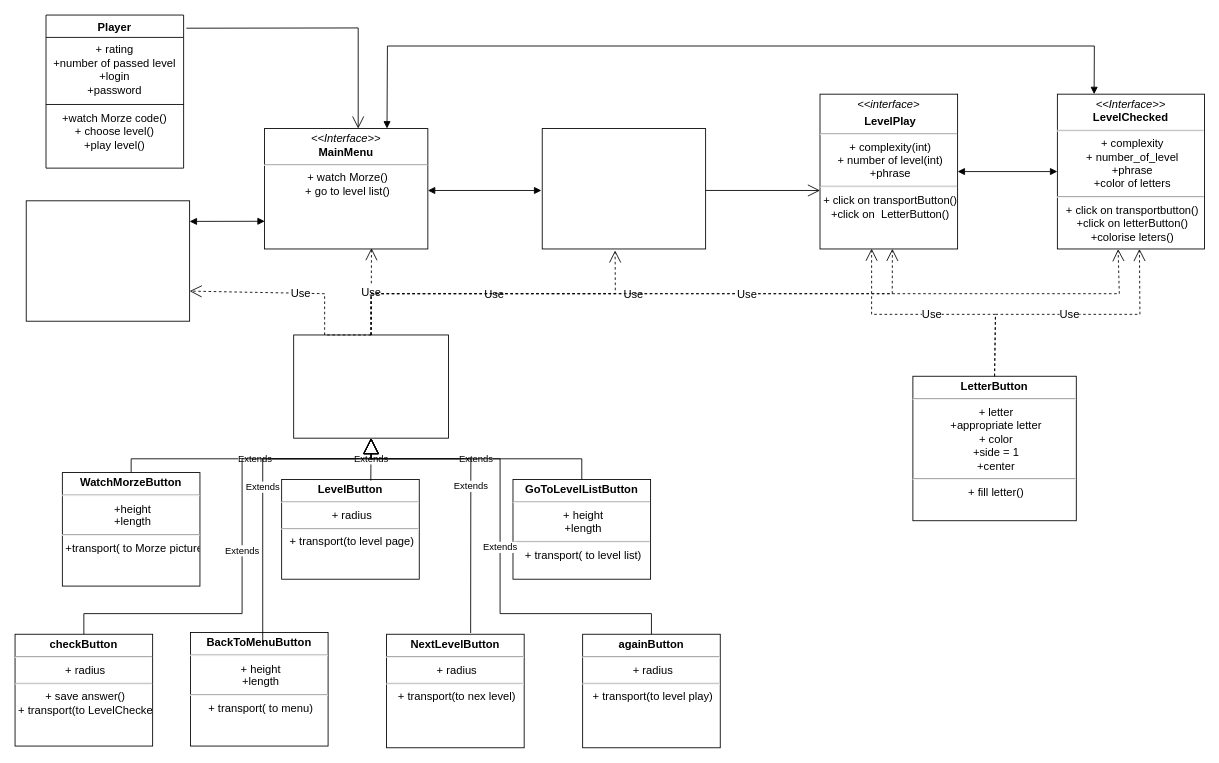
The diagram is 1219 pixels wide and 763 high, and some of its shapes have lost their labels. The centre of each missing label's shape, as x and y in pixels:
<<Interface>> LevelsList + go main menu() + go to leve(): [623,188]
<<Interface>> Morze page + alphabet Morze + click on Button(): [107,260]
TransportButton(prototype) + which page +cooordinates + shape + transport(): [370,386]
